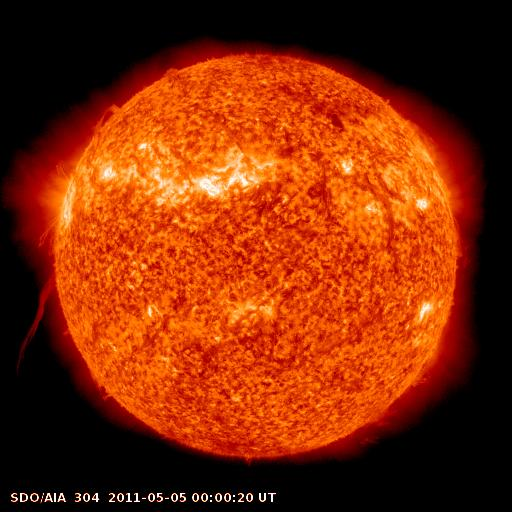prominence: (5, 263, 66, 376), (404, 115, 454, 168), (412, 334, 451, 391), (82, 97, 126, 144), (444, 212, 479, 271), (82, 364, 122, 406), (158, 55, 186, 88)
